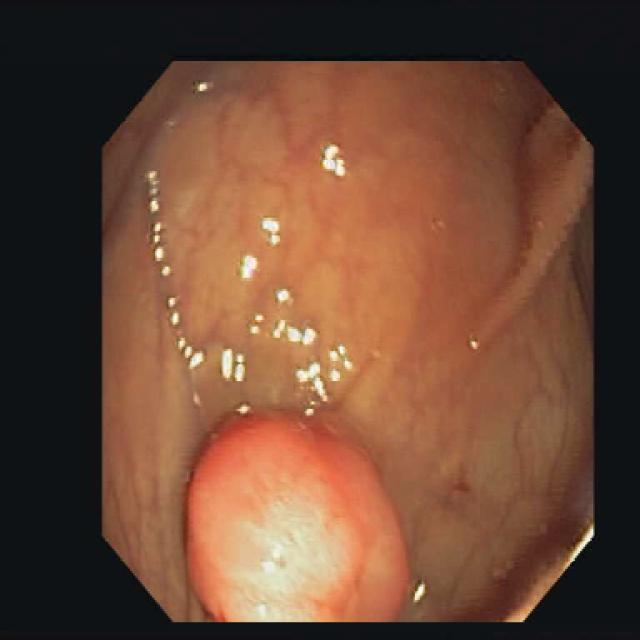tumor: (188, 411, 408, 620)
